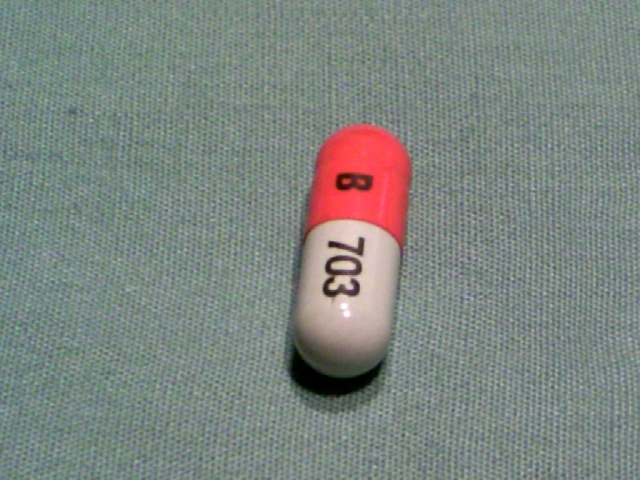0: (324, 256, 364, 277)
3: (321, 275, 362, 301)
7: (325, 234, 368, 256)
B: (334, 167, 377, 193)
capsule: (283, 121, 417, 382)
